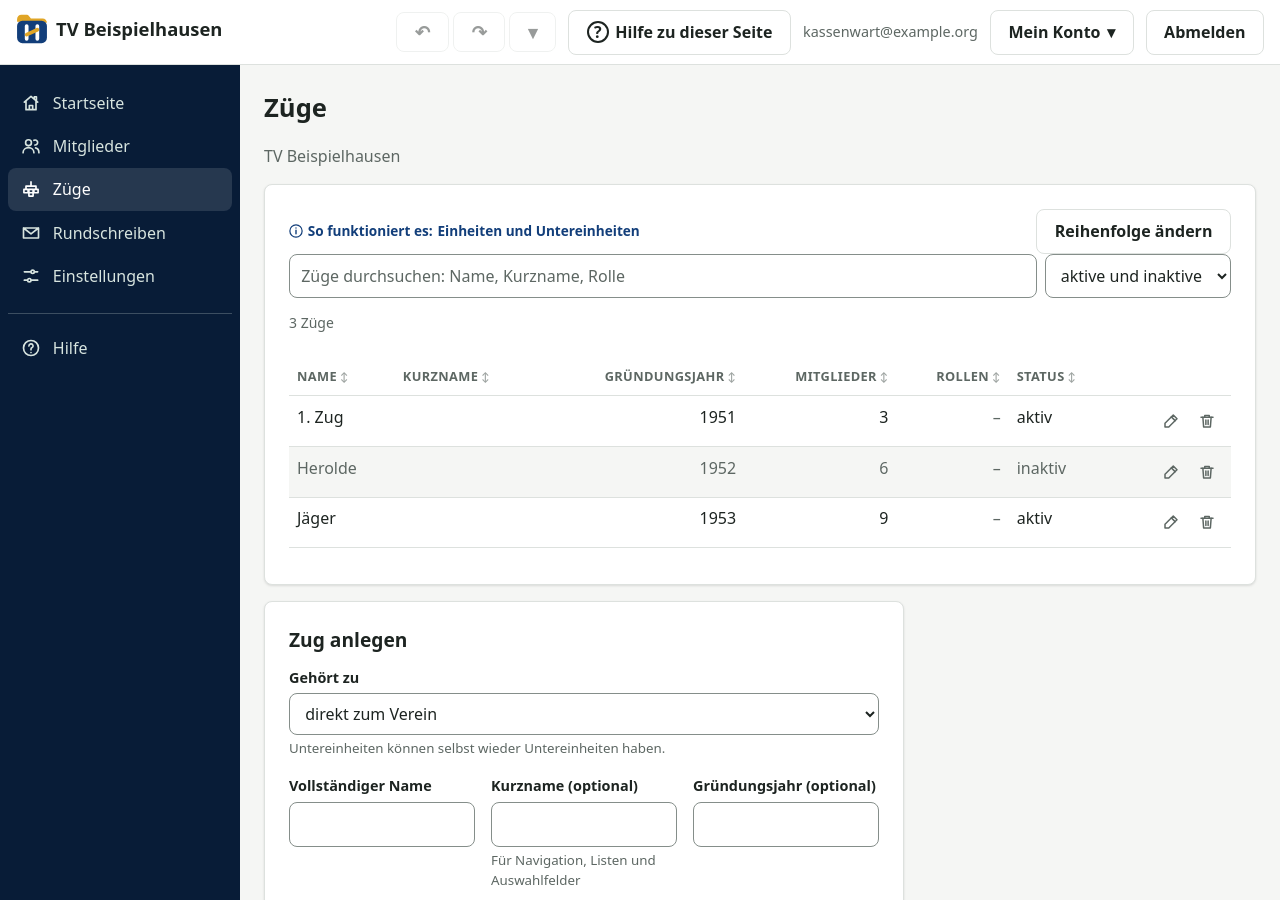
Test case: Züge als Tabelle › zeigt einen Fehler beim Löschen im Dialog
This screenshot has width=1280, height=900.
Click the button named "Jäger löschen". click: (1207, 522)
box: [1191,506,1223,538]
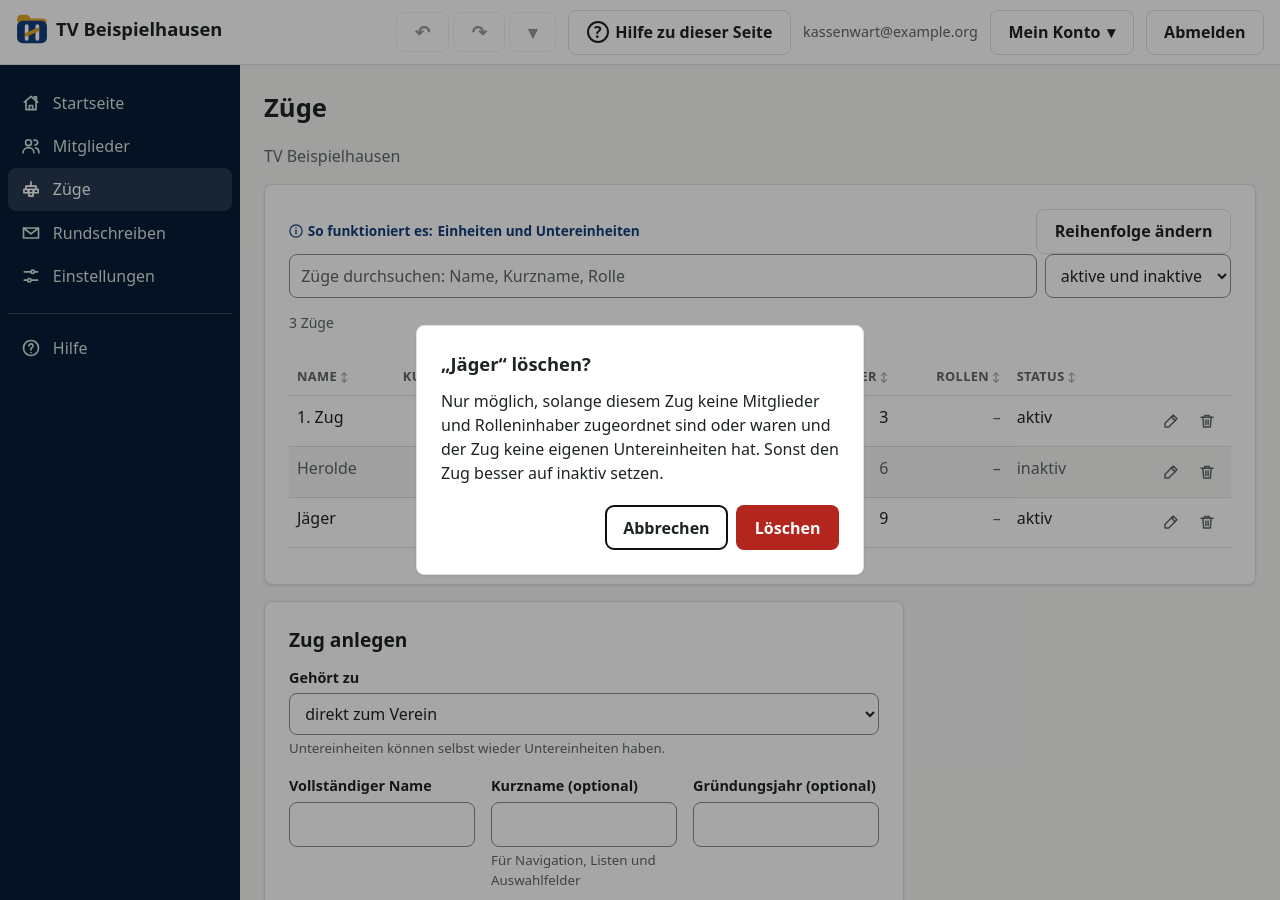
Click the button "Löschen". click: (788, 528)
box: [736,505,839,550]
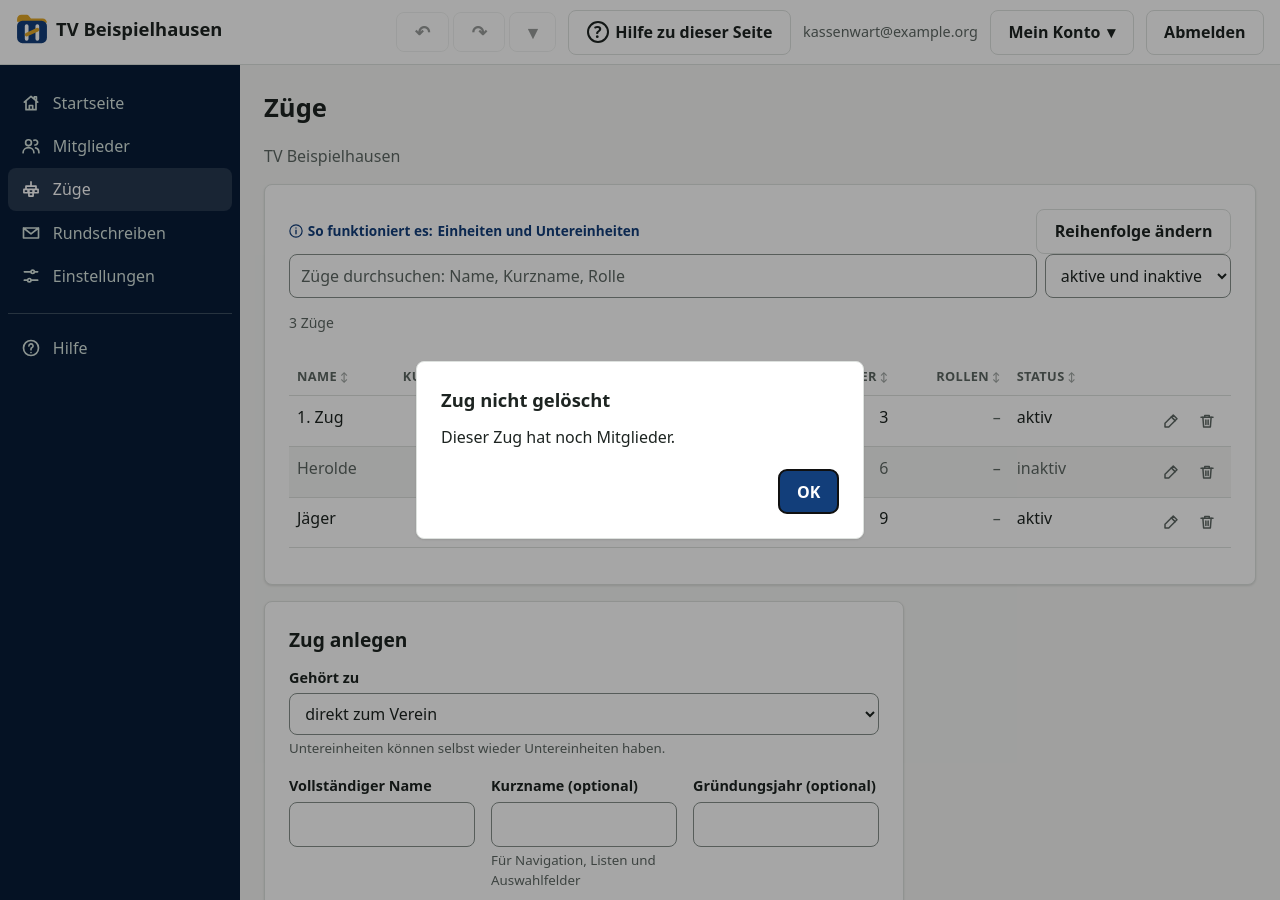
Expected: the dialog "Zug nicht gelöscht" shows "Dieser Zug hat noch Mitglieder.", [441,426,675,448]
